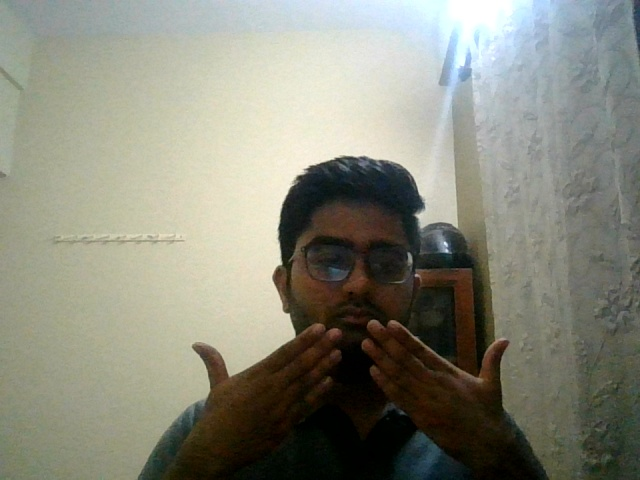Thank You: (167, 313, 563, 478)
